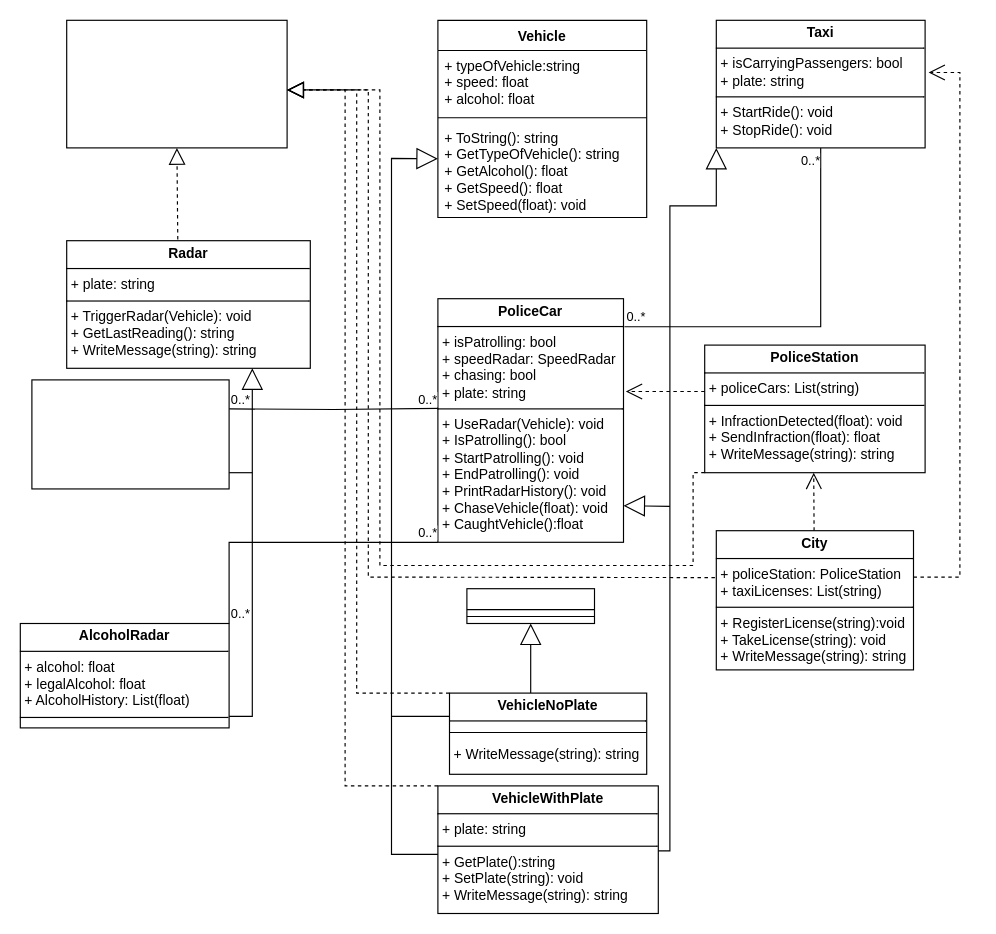
The diagram is 996 pixels wide and 934 high, and some of its shapes have lost their labels. The centre of each missing label's shape, as x and y in pixels:
"<<Interface>> IMessageWritter + WriteMessage(string): string" goes at (x=176, y=83).
"Scooter" goes at (x=530, y=606).
"SpeedRadar + speed: float + legalSpeed: float + SpeedHistory: List(float)" goes at (x=130, y=434).
